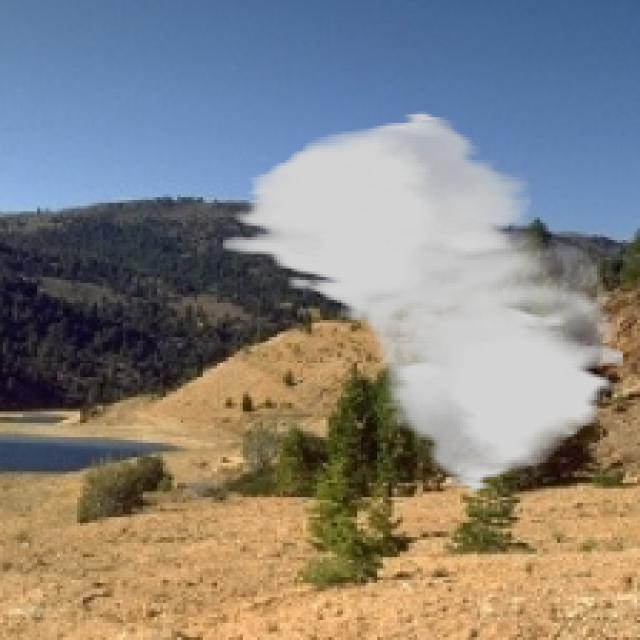smoke: (223, 112, 626, 494)
